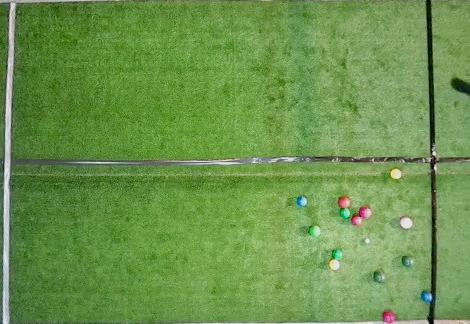blue: (421, 292, 433, 302), (297, 197, 307, 206)
green: (309, 225, 321, 237), (374, 271, 386, 282), (402, 256, 414, 266), (340, 208, 351, 218), (332, 250, 342, 259)
red: (382, 311, 397, 323), (400, 217, 413, 229), (359, 207, 372, 219), (338, 196, 351, 208), (351, 215, 362, 226)
vline: (425, 0, 469, 323), (0, 0, 18, 323)
white: (365, 238, 370, 243)
yellow: (329, 259, 340, 270), (390, 169, 402, 179)
